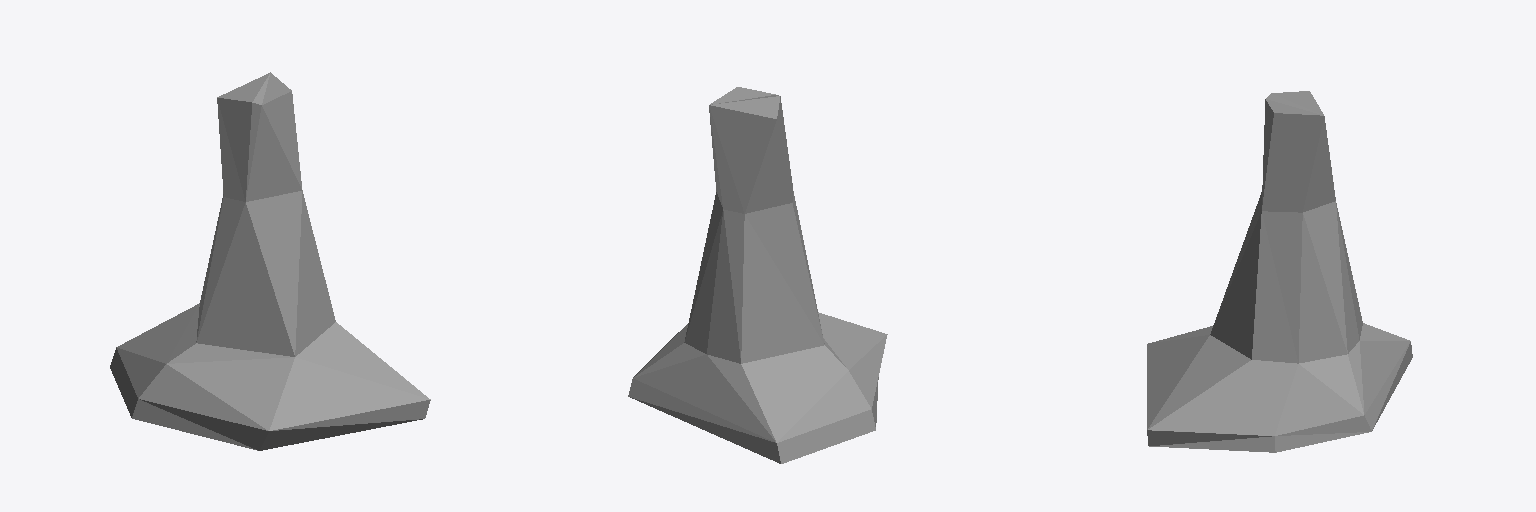
Rendered from Low_Poly_Cuboid_Rock_010.obj.
3 views of the same model, side by side, from view 1: azimuth 30°, elevation 25°; view 2: azimuth 150°, elevation 25°; view 3: azimuth 270°, elevation 25° (orthographic).
Visible parts, largest first — view 1: Low_Poly_Cuboid_Rock_010_Cube; view 2: Low_Poly_Cuboid_Rock_010_Cube; view 3: Low_Poly_Cuboid_Rock_010_Cube.
Boxes of the visible parts, x1=… form: Low_Poly_Cuboid_Rock_010_Cube: x1=110, y1=72, x2=430, y2=450; Low_Poly_Cuboid_Rock_010_Cube: x1=628, y1=87, x2=887, y2=463; Low_Poly_Cuboid_Rock_010_Cube: x1=1147, y1=91, x2=1412, y2=452.
Bounding box in the file's own units: 8.89 × 11.63 × 8.8.